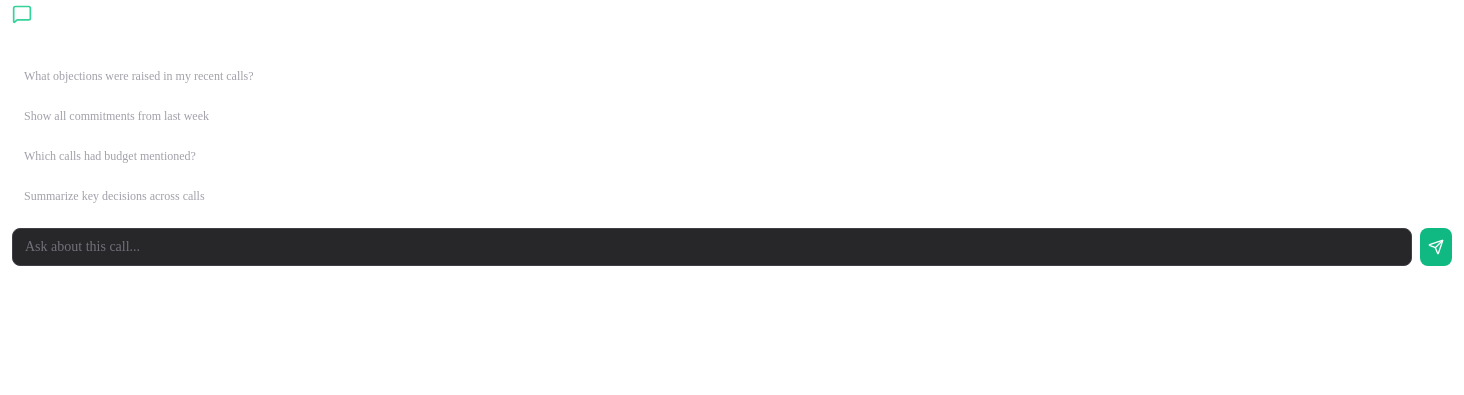
ChatSidebar 403 upgrade affordance › still renders a plain Error bubble for non-plan errors
In the field with placeholder "Ask about this call...": x=712, y=247 top-left (12, 228), bottom-right (1412, 266), type "Summarize this call"
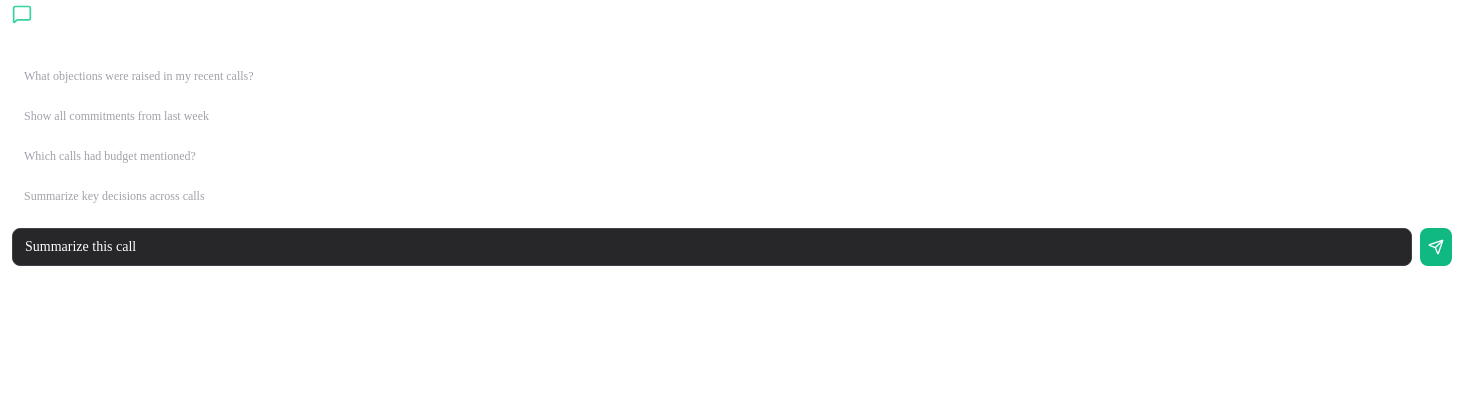
Submit the form with placeholder "Ask about this call...", box top-left (12, 228), bottom-right (1452, 266)
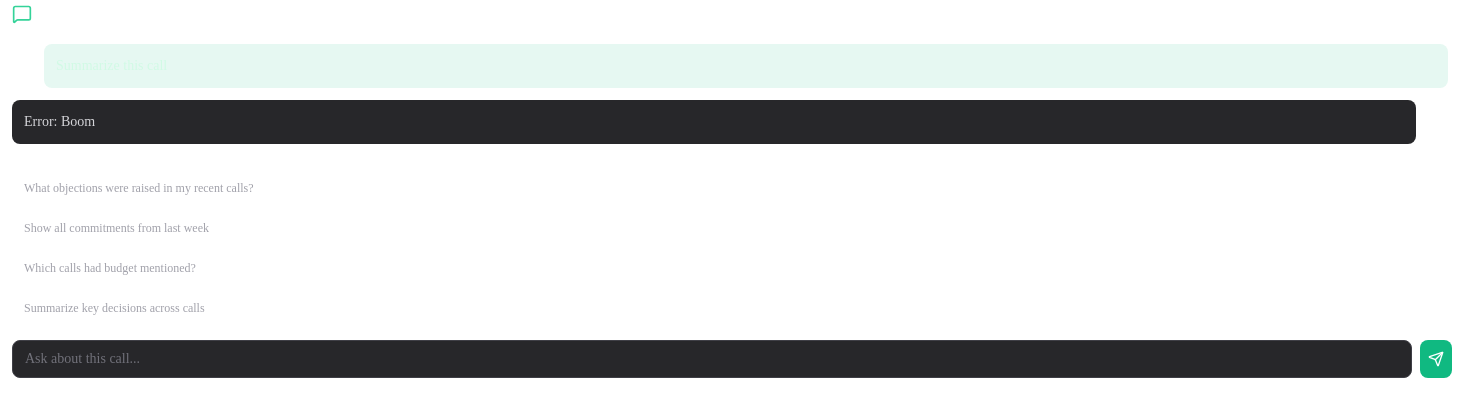
Now the text "Error: Boom" is shown, box top-left (24, 114), bottom-right (95, 129)
